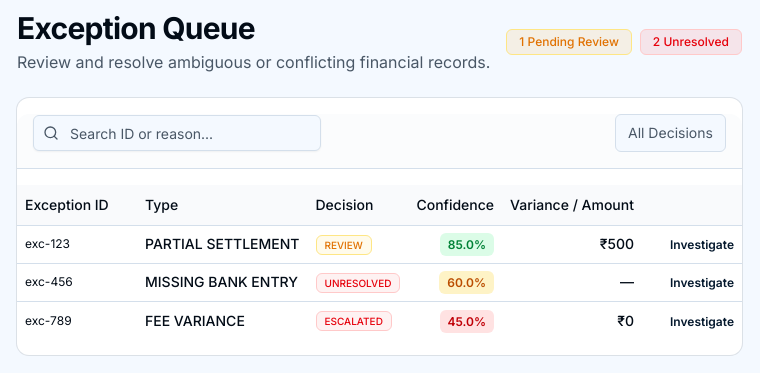
Test: Exceptions Page › filters exceptions by search query (exception ID)
The image size is (760, 373).
Expected: the text "exc-123" is shown, [17,225,137,263]
Type "exc-123" into the field with placeholder "Search ID or reason..." at (177, 133), box [33,115,321,151]
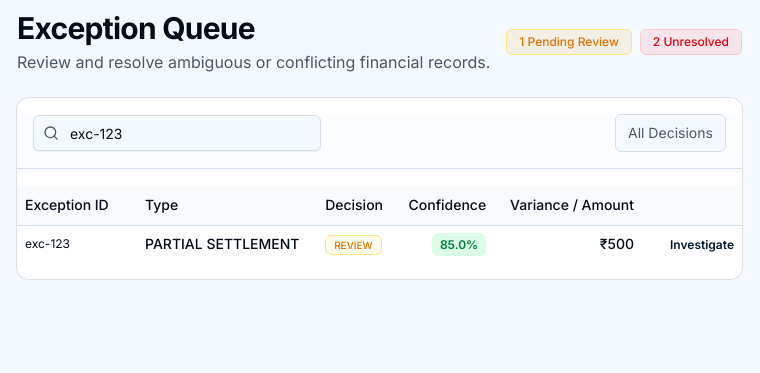
Expected: the text "exc-123" is shown, [17,225,137,263]
Expected: the text "exc-456" is gone
Expected: the text "exc-789" is gone
